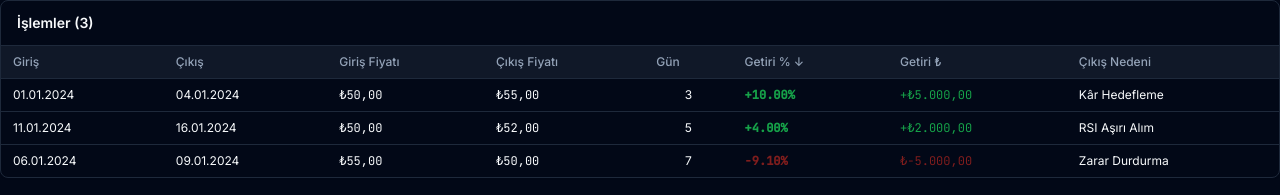
BacktestTradesTable › sorts by column when header clicked
Click the column heading "Gün" at point(668, 62), box [644, 46, 733, 78]
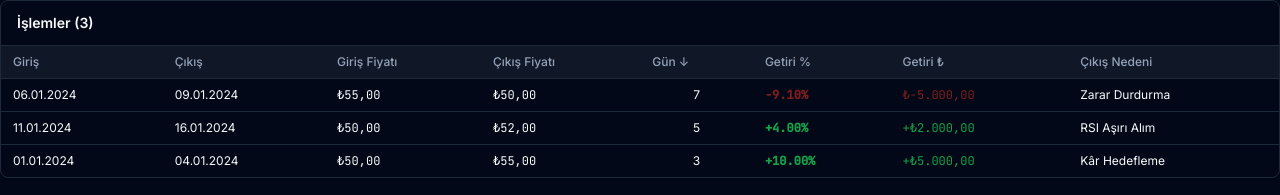
Expected: the column heading "Gün ↓" is shown, [640, 46, 753, 78]
